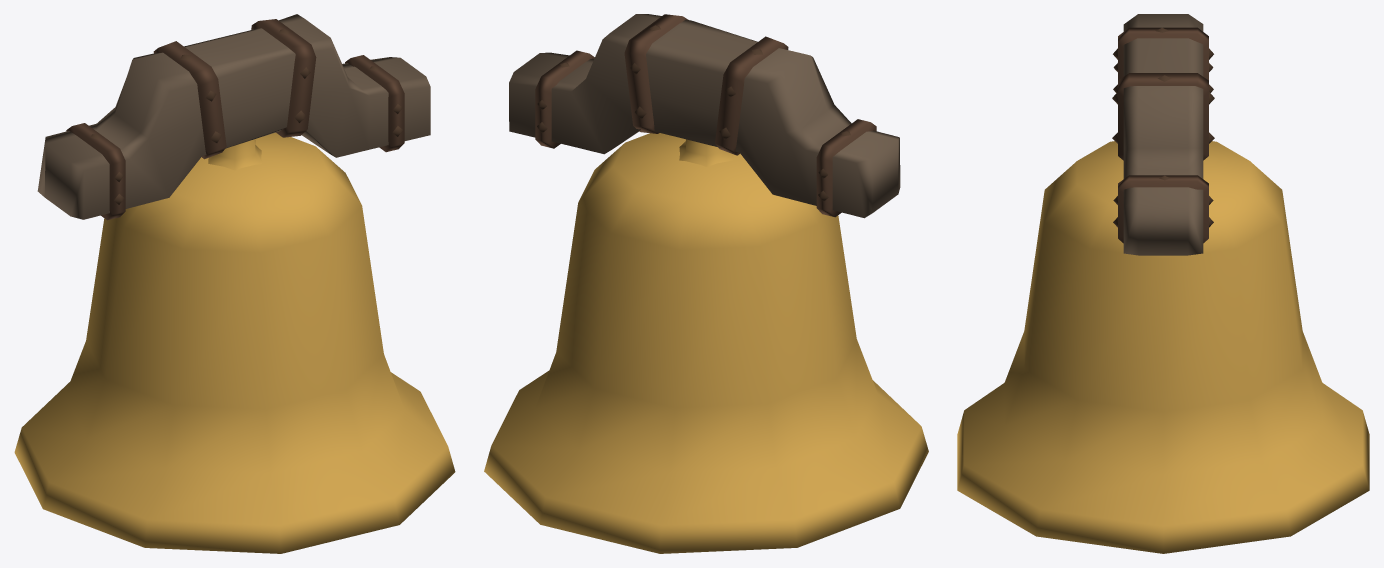
Rendered from SM_Prop_Bell_01.fbx.
3 renders of one model, left to right at view 1: azimuth 30°, elevation 25°; view 2: azimuth 150°, elevation 25°; view 3: azimuth 270°, elevation 25°, orthographic. The views are drawn at different scales.
Parts seen in each view (by area): view 1: SM_Prop_Bell_01; view 2: SM_Prop_Bell_01; view 3: SM_Prop_Bell_01.
Part boxes in pixels (left/top/right/bottom): SM_Prop_Bell_01: left=14, top=14, right=455, bottom=553; SM_Prop_Bell_01: left=484, top=14, right=928, bottom=553; SM_Prop_Bell_01: left=957, top=14, right=1369, bottom=553.
Size of the model in its own units: 130 by 136 by 123.
